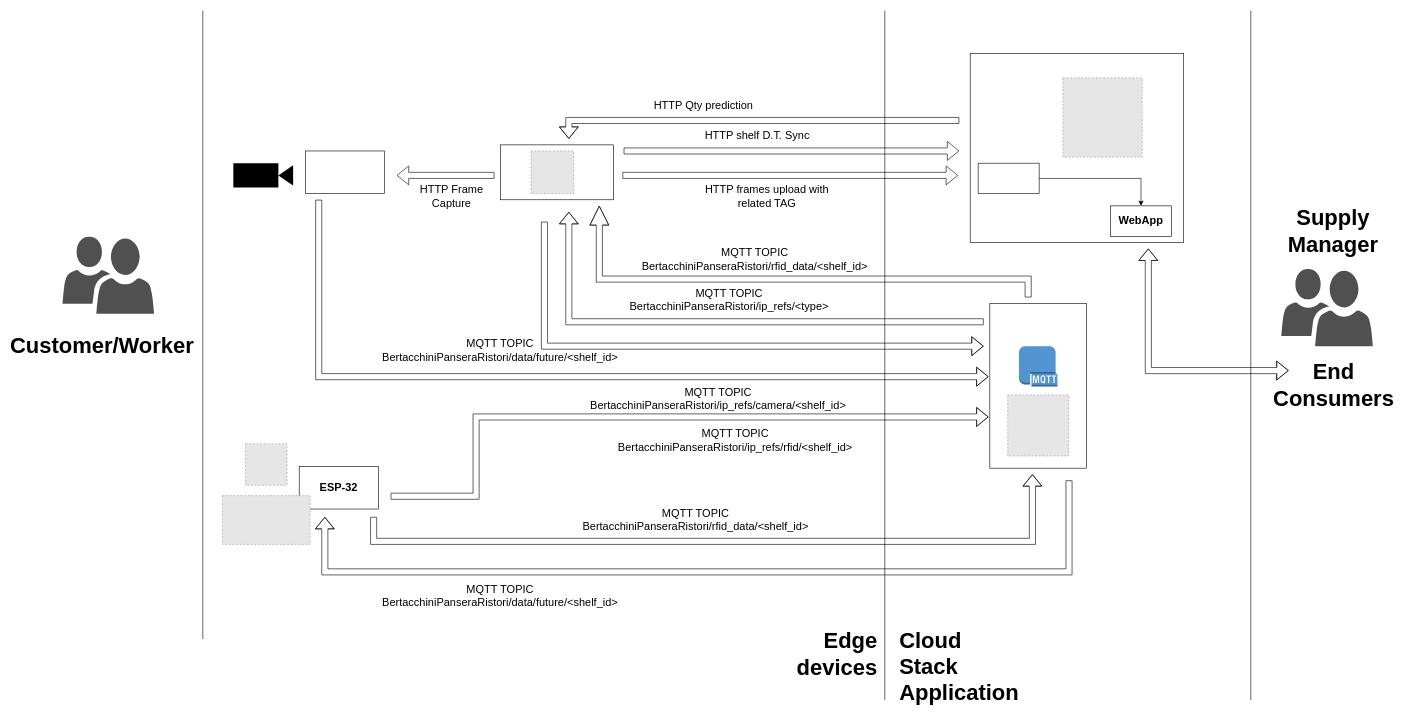
This 1405x717 diagram has some shape labels left out. Grey dashed boxes stand in for pictures. The shapes that lost their labels are listed below. From the top down, each one's box as (x1, y1, x2, y2) in pixels, then its label:
(305, 150, 385, 194): ESP-32 CAM
(978, 163, 1039, 194): Frame Processor
